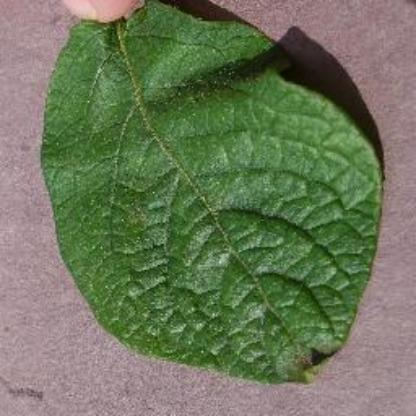Healthy-plant: (30, 1, 395, 388)
